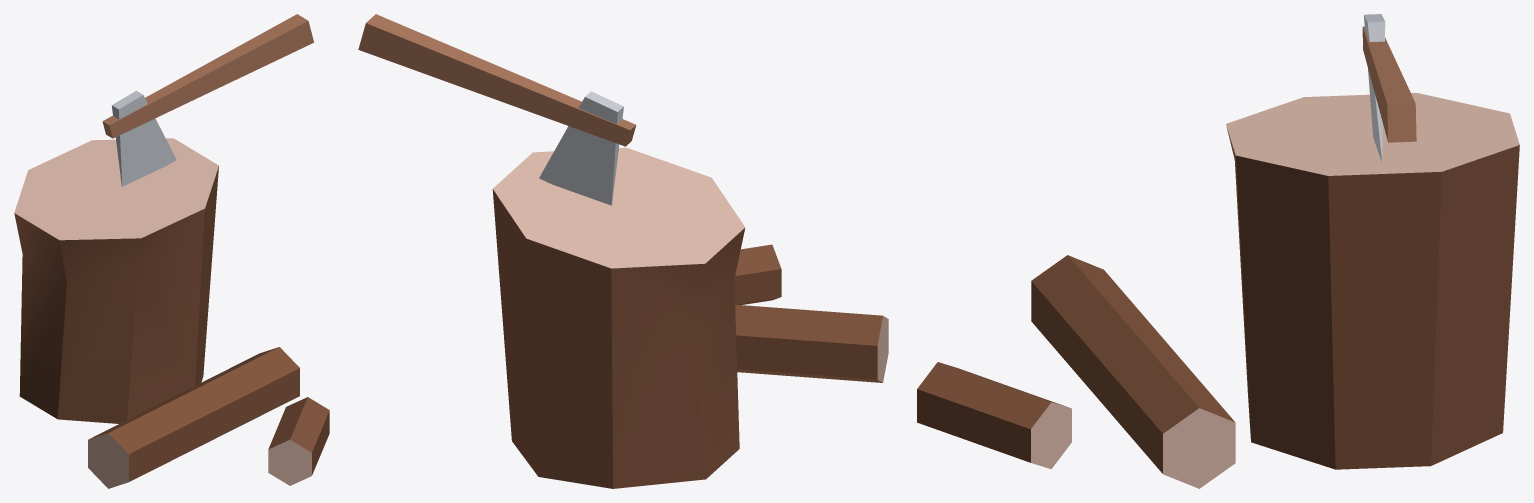
The model's file is toco_machado_pacote.glb.
3 views of the same model, side by side, from view 1: azimuth 30°, elevation 25°; view 2: azimuth 150°, elevation 25°; view 3: azimuth 270°, elevation 25° (orthographic). The views are drawn at different scales.
Visible parts, largest first — view 1: toco_machado_pacote; view 2: toco_machado_pacote; view 3: toco_machado_pacote.
Part boxes in pixels (x1=…): toco_machado_pacote: x1=14, y1=14, x2=329, y2=488; toco_machado_pacote: x1=358, y1=14, x2=888, y2=488; toco_machado_pacote: x1=917, y1=14, x2=1519, y2=488.
Bounding box in the file's own units: 0.8043 × 0.7398 × 0.8941.
Materials: 1 (1 with a texture image).
